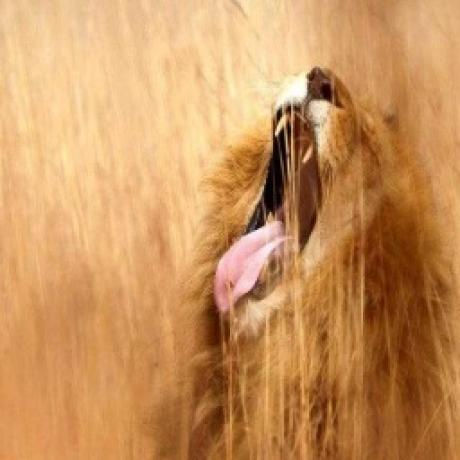Lion: (180, 63, 458, 460)
